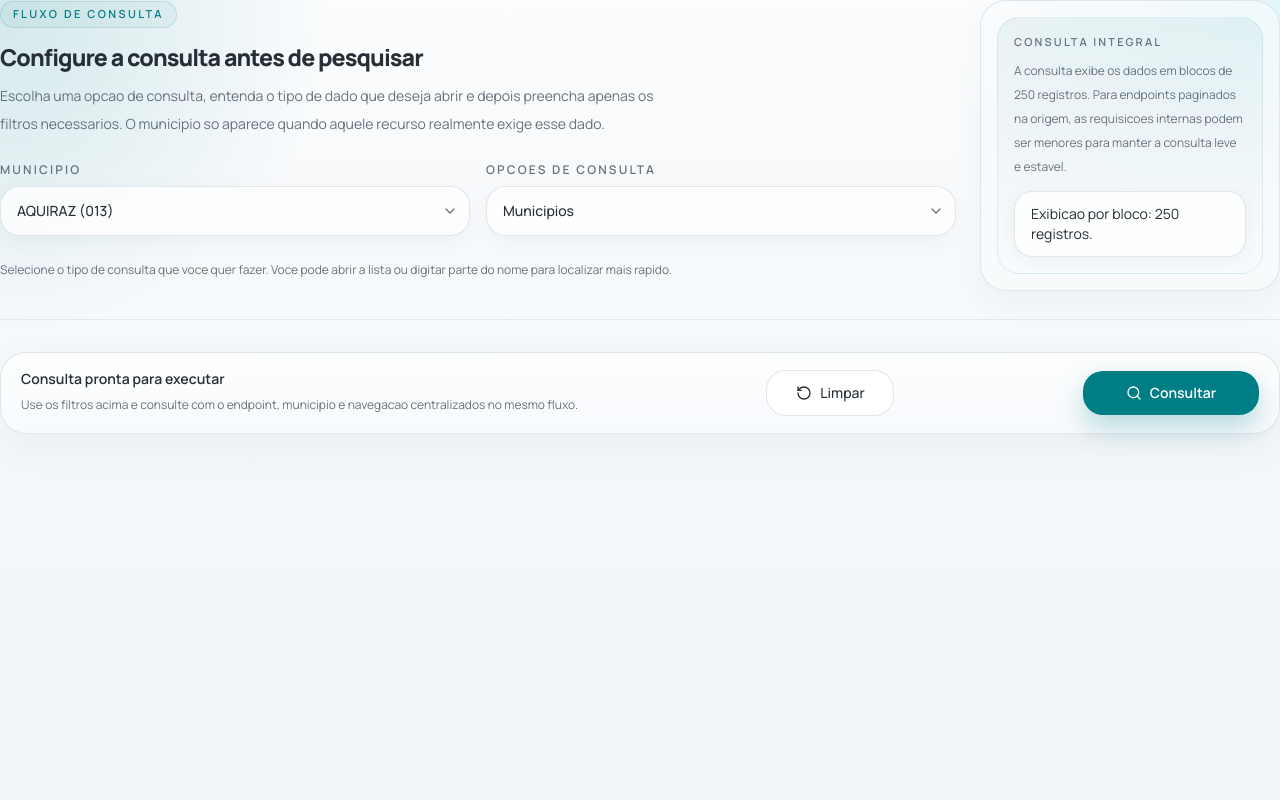
Test: QueryForm › updates visible required fields when the endpoint selection changes
expect the text "Campos obrigatorios (4)" is not shown: met
Replace the text in the dropdown labelled "Opcoes de consulta" with "Contrato" at (721, 211), box [486,186,956,236]
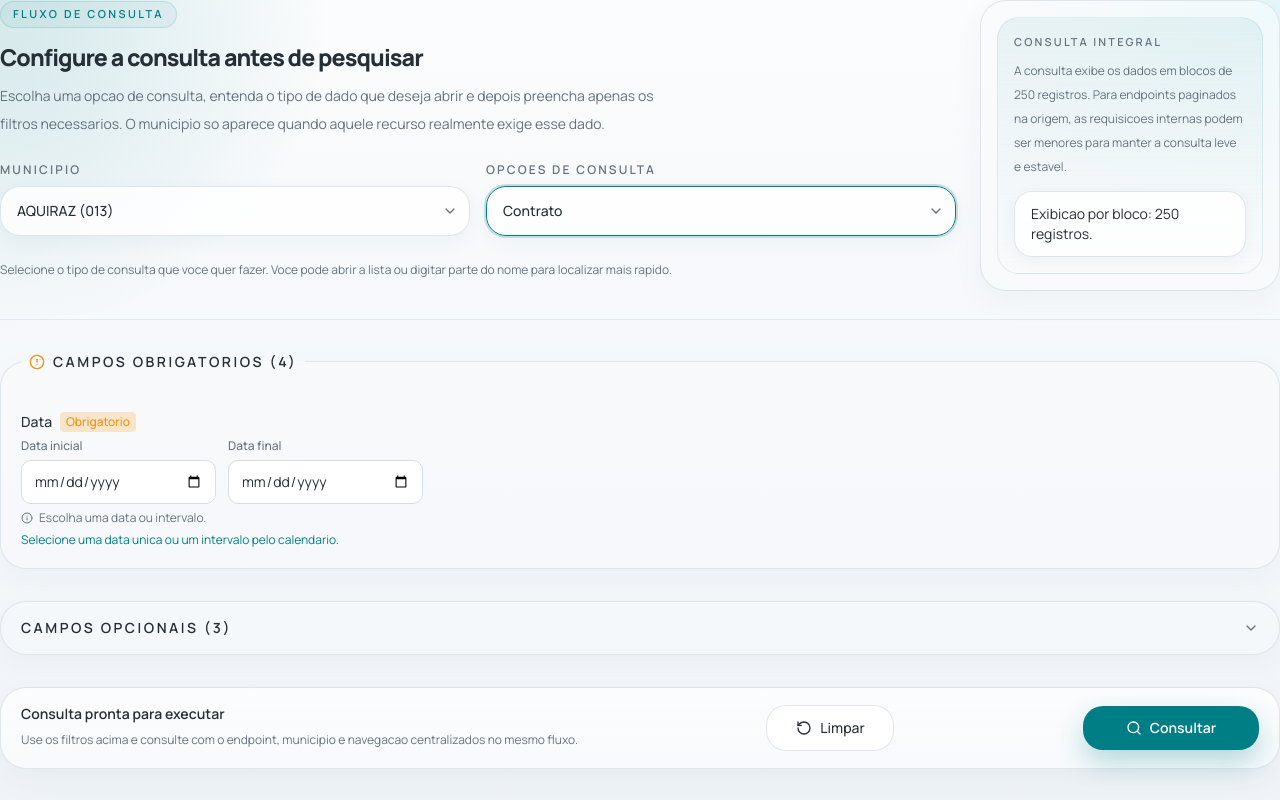
expect the dropdown labelled "Municipio" shows "AQUIRAZ (013)": met, box [0,186,470,236]
expect the text "Campos obrigatorios (4)" is shown: met, box [21,352,305,372]
expect the text "Data" is shown: met, box [21,412,52,430]
